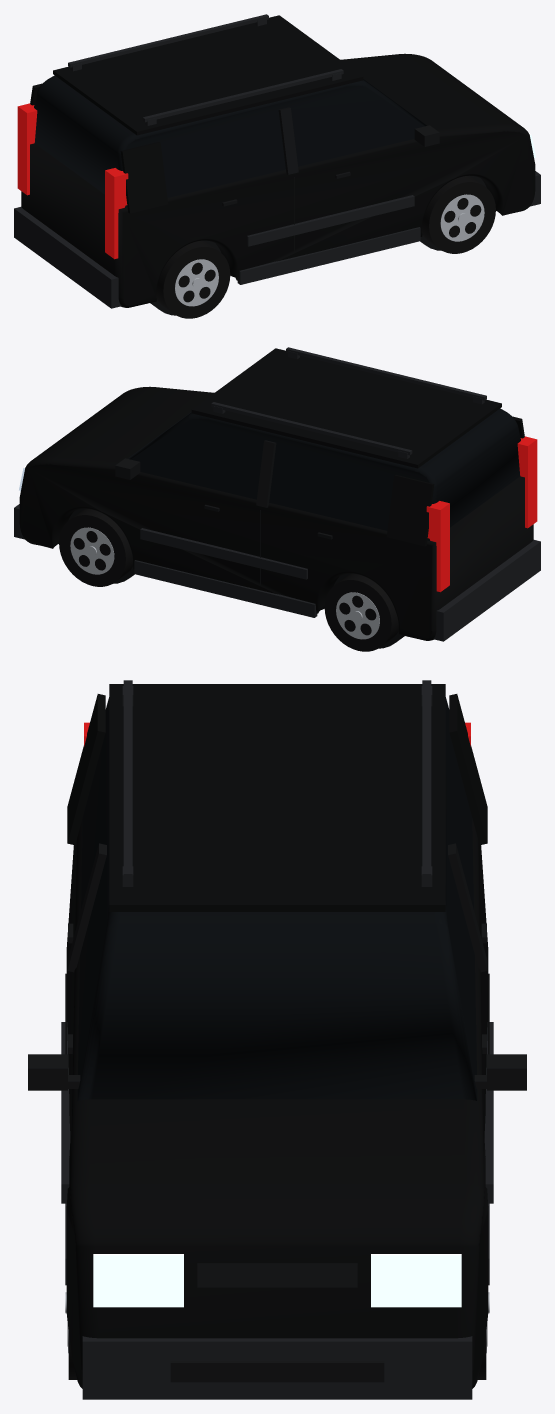
Rendered from panda_provvisorio.glb.
3 renders of one model, top to bottom at view 1: azimuth 30°, elevation 25°; view 2: azimuth 150°, elevation 25°; view 3: azimuth 270°, elevation 25°, orthographic. The views are drawn at different scales.
Visible parts, largest first — view 1: Scocca, Panda169, Vetri, Ruota (×2); view 2: Scocca, Panda169, Vetri, Ruota (×2); view 3: Panda169, Scocca, Vetri.
Boxes of the visible parts, x1,y1,x2,y2 form: Scocca: (21,53,535,307); Panda169: (14,14,540,315); Vetri: (34,75,427,207); Ruota (×2): (156,176,495,318); Scocca: (19,386,533,640); Panda169: (14,347,540,648); Vetri: (127,408,520,540); Ruota (×2): (59,509,398,651); Panda169: (28,680,526,1399); Scocca: (66,818,488,1388); Vetri: (77,697,477,1100).
Bounding box in the file's own units: 3.74 × 1.68 × 1.87.
